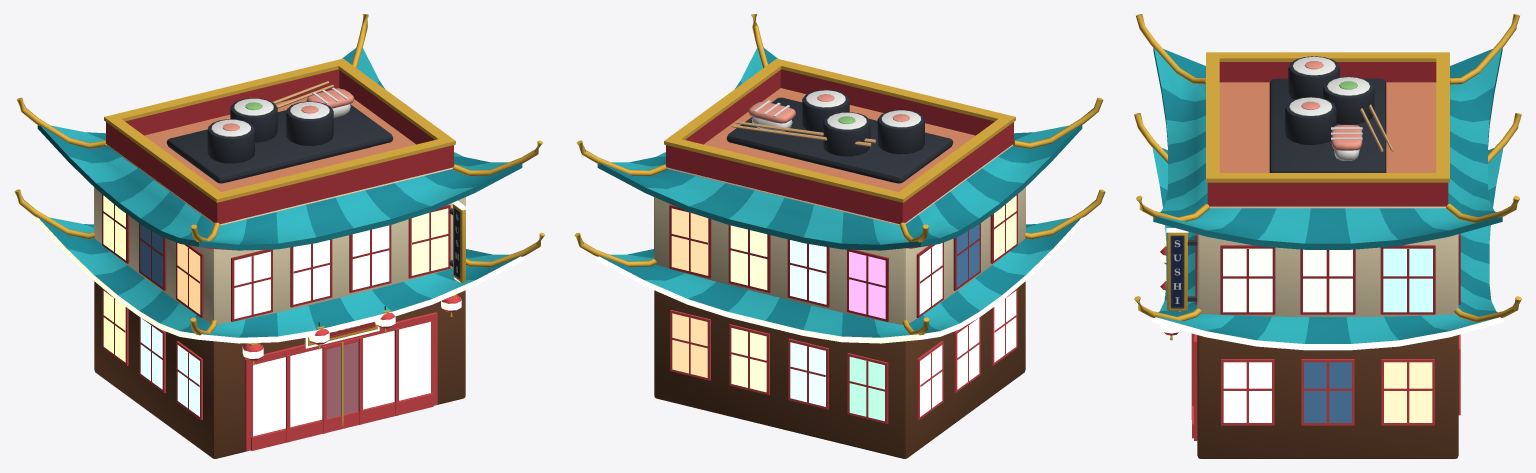
The model's file is restaurante_sushi.glb.
3 views of the same model, side by side, from view 1: azimuth 30°, elevation 25°; view 2: azimuth 150°, elevation 25°; view 3: azimuth 270°, elevation 25° (orthographic). The views are drawn at different scales.
Parts seen in each view (by area): view 1: restaurante_sushi; view 2: restaurante_sushi; view 3: restaurante_sushi.
Boxes of the visible parts, box(x1,y1,x2,y2) form: restaurante_sushi: box(14, 14, 545, 458); restaurante_sushi: box(574, 14, 1105, 458); restaurante_sushi: box(1134, 14, 1521, 458).
Size of the model in its own units: 12.86 by 9.63 by 11.28.
Materials: 11 (3 with a texture image).
